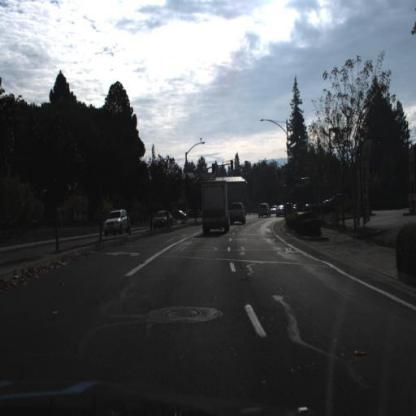car: (198, 180, 232, 236), (104, 207, 131, 236), (229, 203, 248, 226), (152, 211, 173, 231), (170, 207, 190, 225), (257, 201, 273, 219), (276, 201, 289, 219)
truck: (203, 184, 230, 239)
